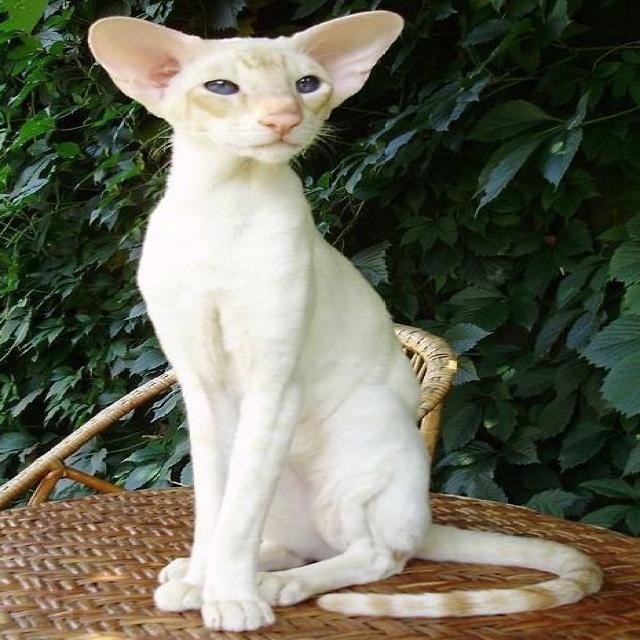Oriental: (83, 8, 610, 636)
